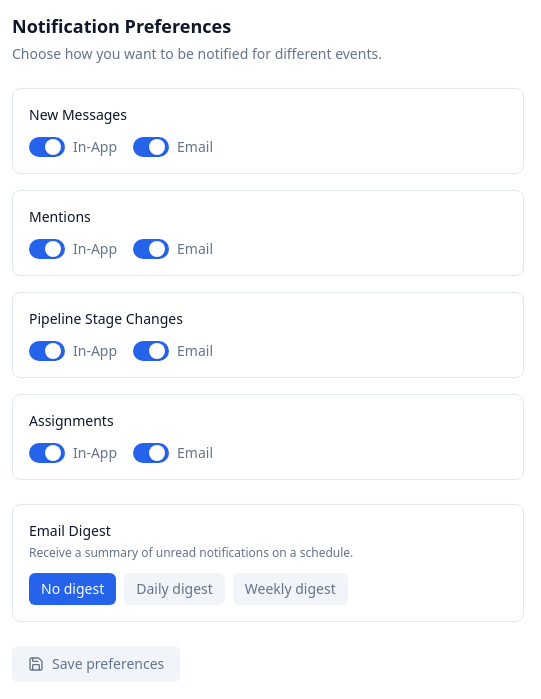
Test: NotificationPreferences › save button is enabled after making changes
Click the switch with test id "pref-switch-message-email": (151, 147) [133,137,169,157]
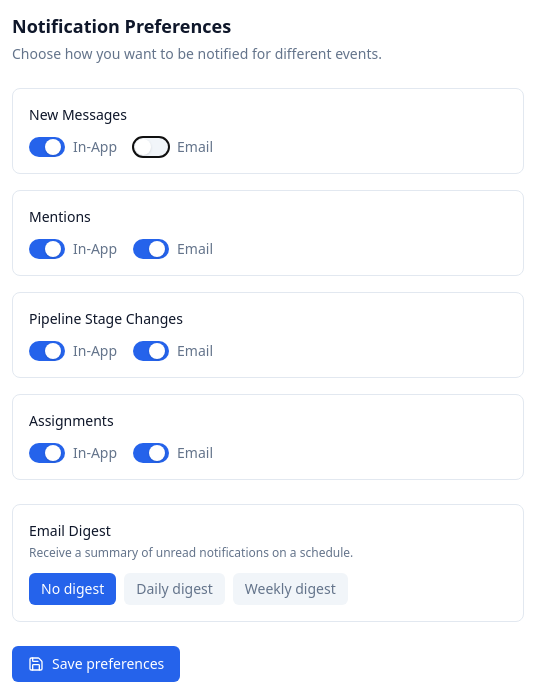
Result: the button with test id "save-preferences-btn" is enabled at [12,646,180,682]
